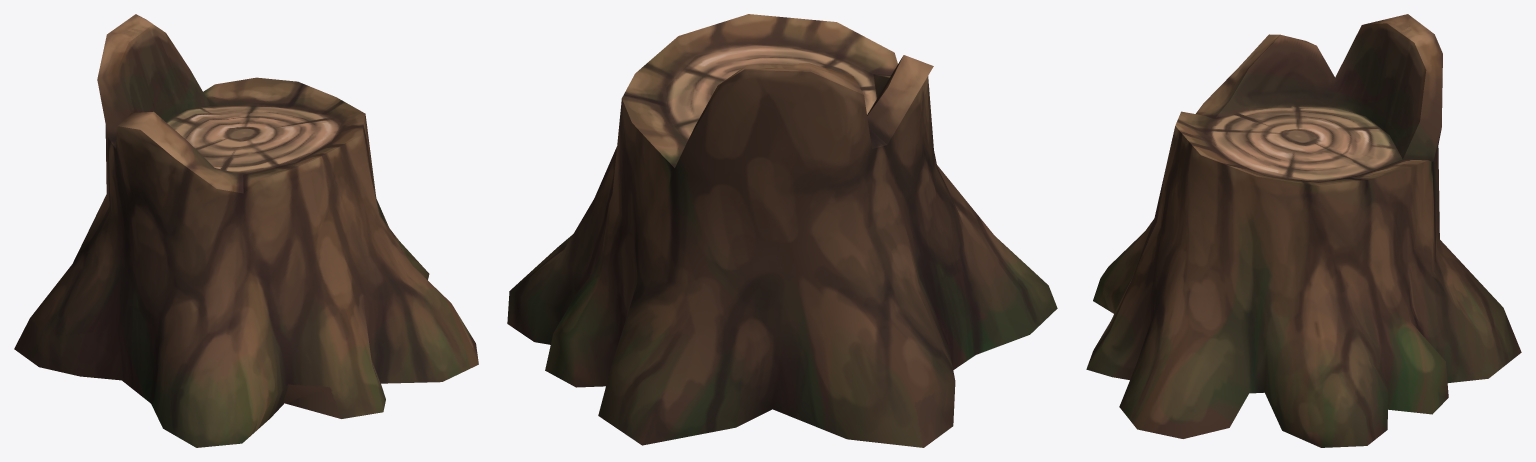
The model's file is stump01.FBX.
The picture shows the model from 3 angles, left to right: view 1: azimuth 30°, elevation 25°; view 2: azimuth 150°, elevation 25°; view 3: azimuth 270°, elevation 25°; orthographic projection. The views are drawn at different scales.
Parts seen in each view (by area): view 1: stump01; view 2: stump01; view 3: stump01.
Part boxes in pixels (bbox=[...]): stump01: bbox=[14, 14, 478, 447]; stump01: bbox=[507, 14, 1057, 447]; stump01: bbox=[1086, 14, 1521, 447].
Size of the model in its own units: 14.27 by 10.69 by 14.18.
